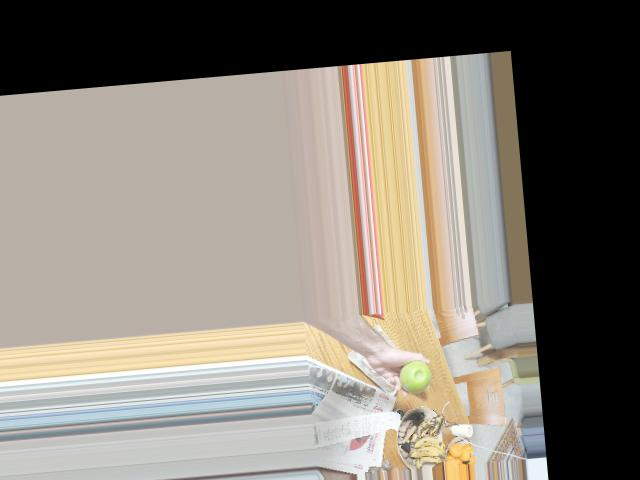apple: (397, 357, 434, 391)
